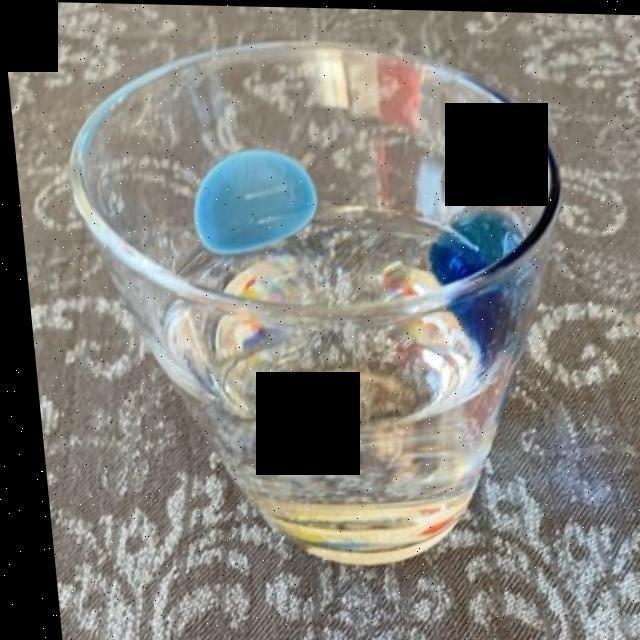water: (125, 214, 510, 570)
